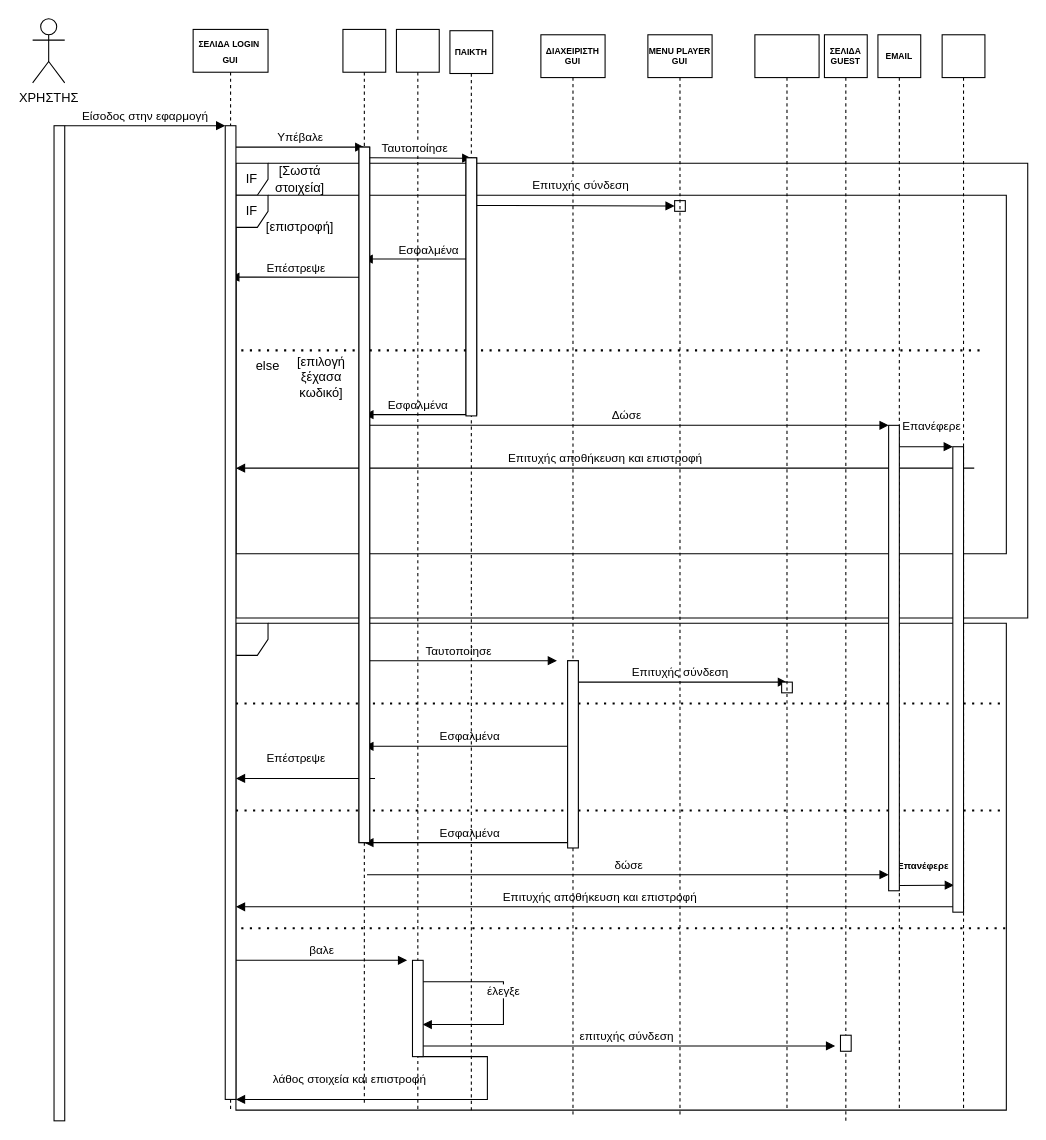
Image size: 1046x1140. Some labels were removed from this diagram. The shapes that lost their labels are listed below. From the top down, each one's box as (x1, y1, x2, y2) in pixels, then its label:
(342, 28, 386, 1105): ΣΤΟΙΧΕΙΑ
(395, 28, 439, 1110): ΚΩΔΙΚΟΣ Η LINK
(754, 34, 819, 1110): ΣΕΛΙΔΑ ADMIN GUI
(941, 34, 985, 1110): ΚΩΔΙΚΟ
(235, 622, 1006, 1110): εναλλ
